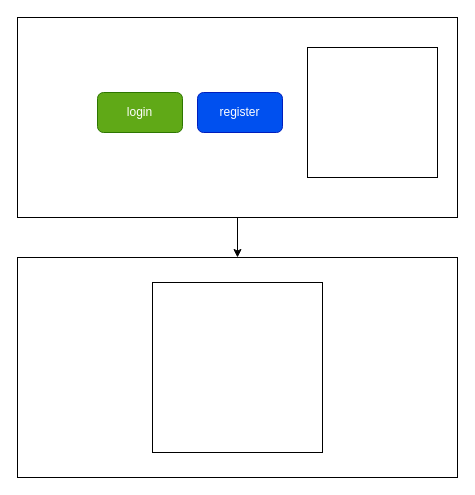
The diagram is 475 pixels wide and 495 high, and some of its shapes have lost their labels. Here are the shapes that lost their labels. From the top down, the box of each, then its label:
(306, 46, 438, 178): image illustration
(152, 282, 322, 452): formulaire
